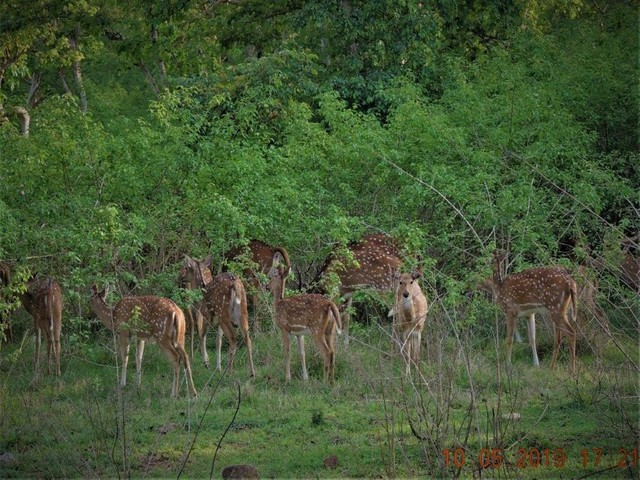deer: (84, 283, 195, 402), (485, 250, 582, 373), (265, 261, 342, 384), (190, 255, 258, 376), (13, 265, 69, 380), (387, 258, 429, 378), (342, 229, 390, 303), (228, 239, 297, 259)
